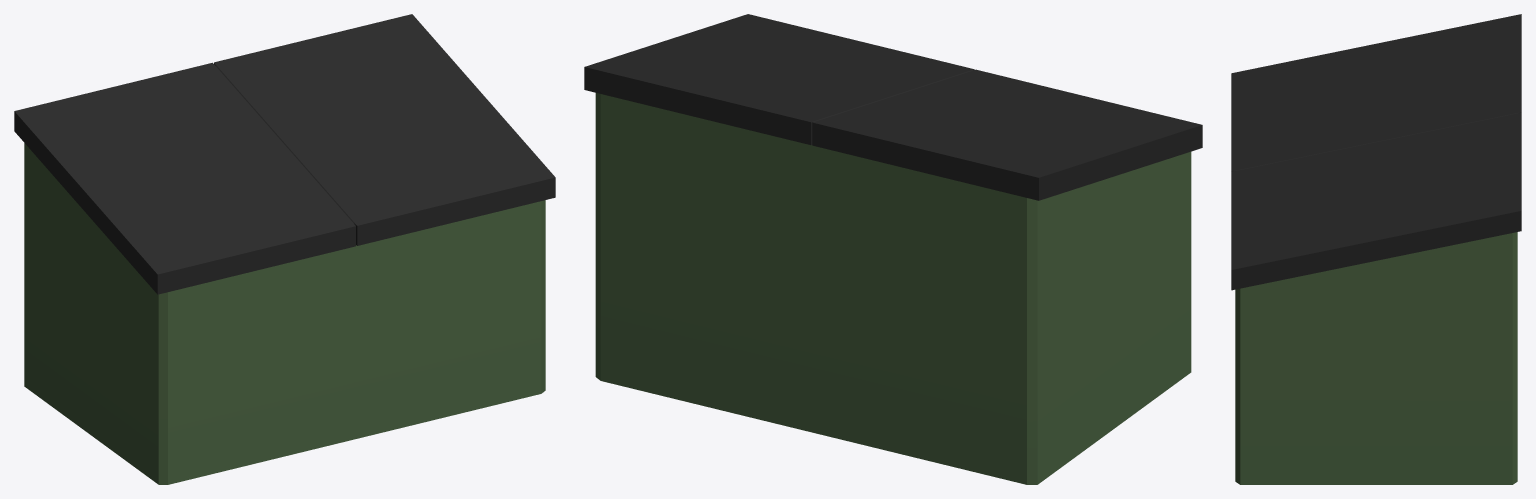
The model's file is SM_Props_Trash_01.glb.
3 renders of one model, left to right at view 1: azimuth 30°, elevation 25°; view 2: azimuth 150°, elevation 25°; view 3: azimuth 270°, elevation 25°, orthographic. The views are drawn at different scales.
Parts seen in each view (by area): view 1: SM_Props_Trash_01; view 2: SM_Props_Trash_01; view 3: SM_Props_Trash_01.
Part boxes in pixels (x1=…): SM_Props_Trash_01: x1=14, y1=14, x2=555, y2=484; SM_Props_Trash_01: x1=584, y1=14, x2=1202, y2=484; SM_Props_Trash_01: x1=1231, y1=14, x2=1521, y2=484.
Size of the model in its own units: 1.64 by 1.08 by 1.02.
1 material, 1 textured.
